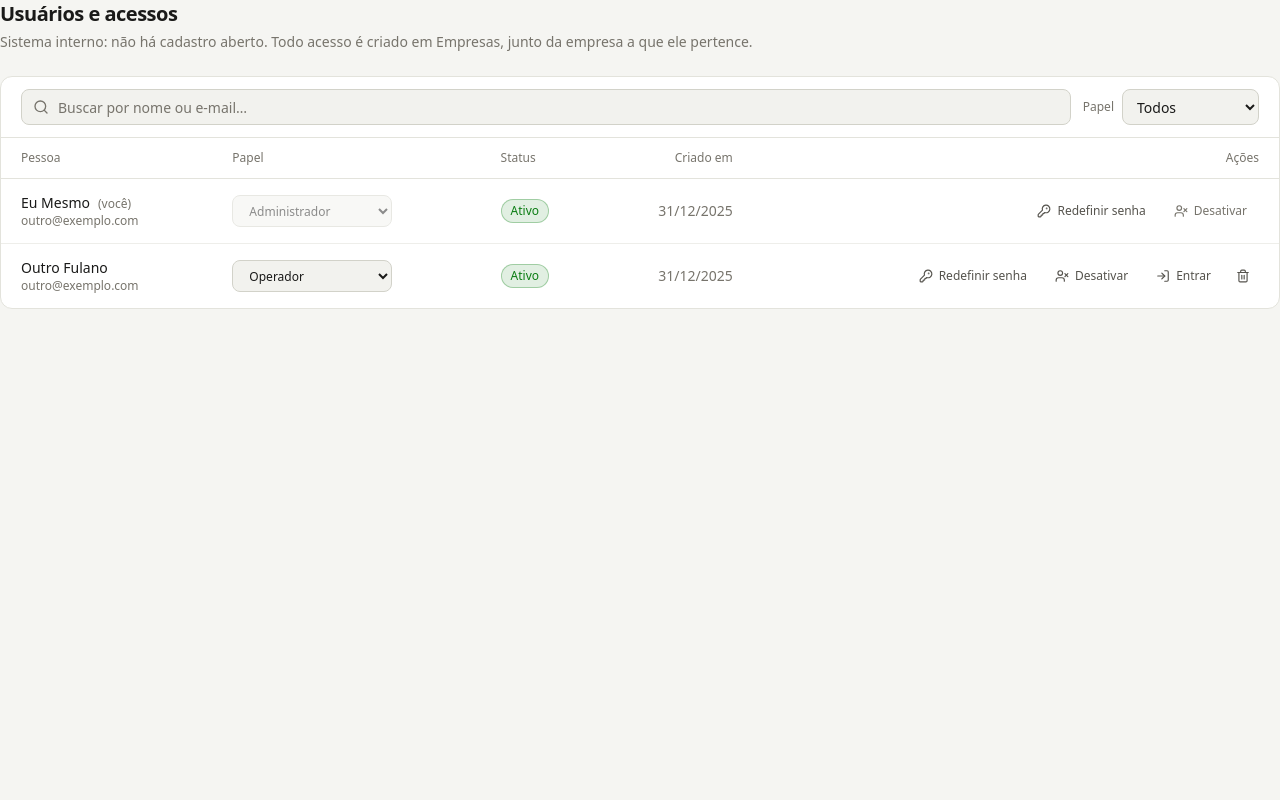
ListaUsuarios — excluir acesso › recusa da API aparece na tela, em vez de sumir
Click the button named "Excluir o acesso de Outro Fulano".
click(1243, 276)  # box [1227,260,1259,292]
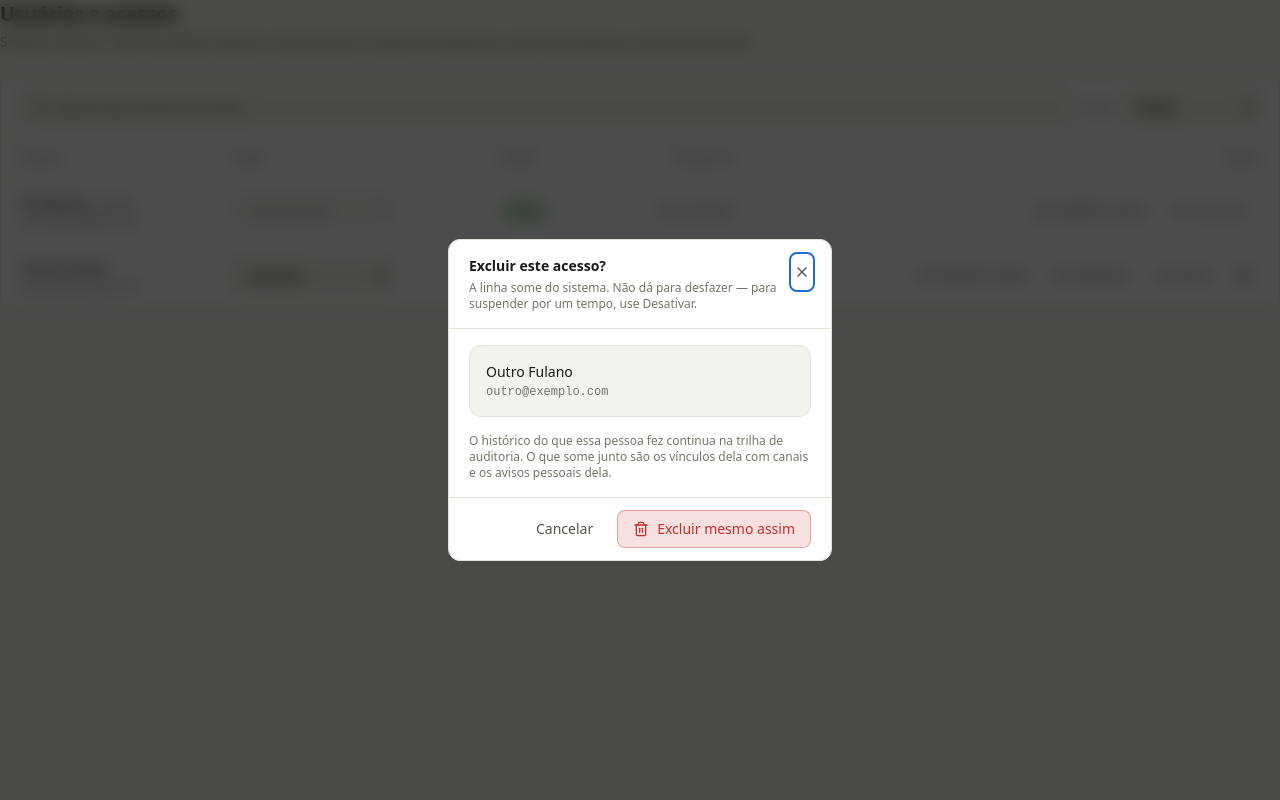
Click the button "Excluir mesmo assim".
click(714, 529)  # box [617,510,811,548]
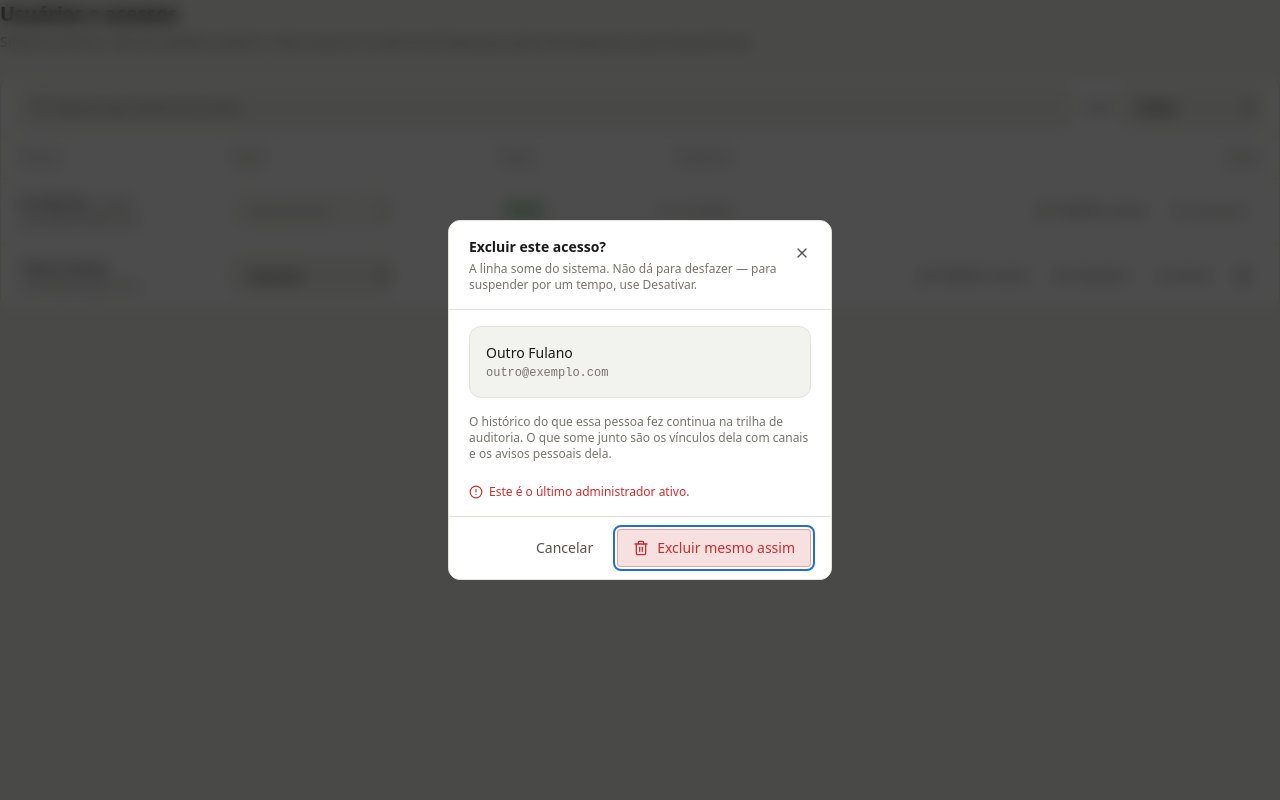
Check: the text "Este é o último administrador ativo." is shown, box [489,484,689,500]
